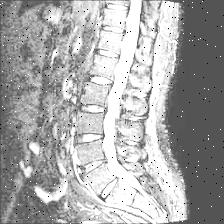disc: (76, 129, 108, 147), (78, 101, 110, 118), (96, 46, 122, 64), (90, 73, 114, 91), (104, 1, 132, 14), (102, 22, 127, 36)
hdisc: (78, 156, 110, 176)
